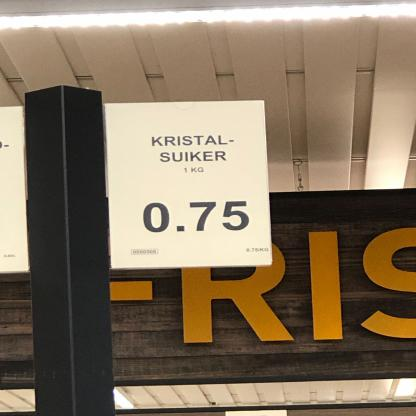prtg: (104, 100, 273, 270)
